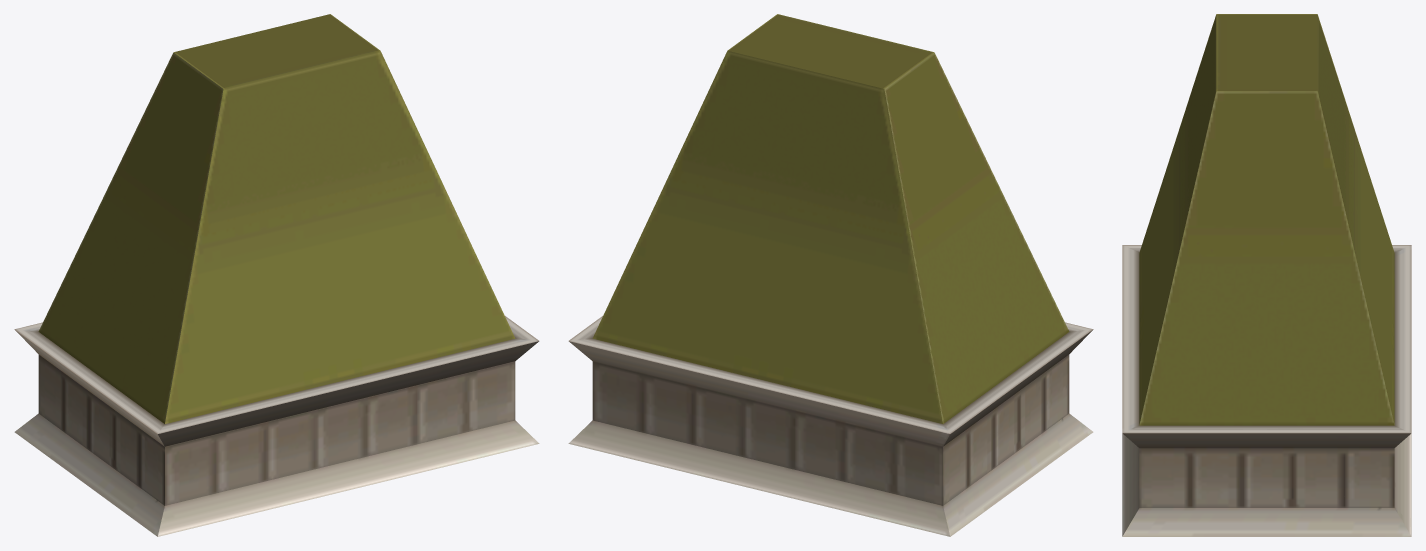
The model's file is furni_0200092_01.FBX.
3 renders of one model, left to right at view 1: azimuth 30°, elevation 25°; view 2: azimuth 150°, elevation 25°; view 3: azimuth 270°, elevation 25°, orthographic.
Visible parts, largest first — view 1: furni_0200092_01; view 2: furni_0200092_01; view 3: furni_0200092_01.
Part boxes in pixels (x1=…): furni_0200092_01: x1=14, y1=14, x2=539, y2=536; furni_0200092_01: x1=568, y1=14, x2=1093, y2=536; furni_0200092_01: x1=1122, y1=14, x2=1411, y2=536.
Size of the model in its own units: 80.17 by 77.5 by 52.11.
Materials: 1 (1 with a texture image).
